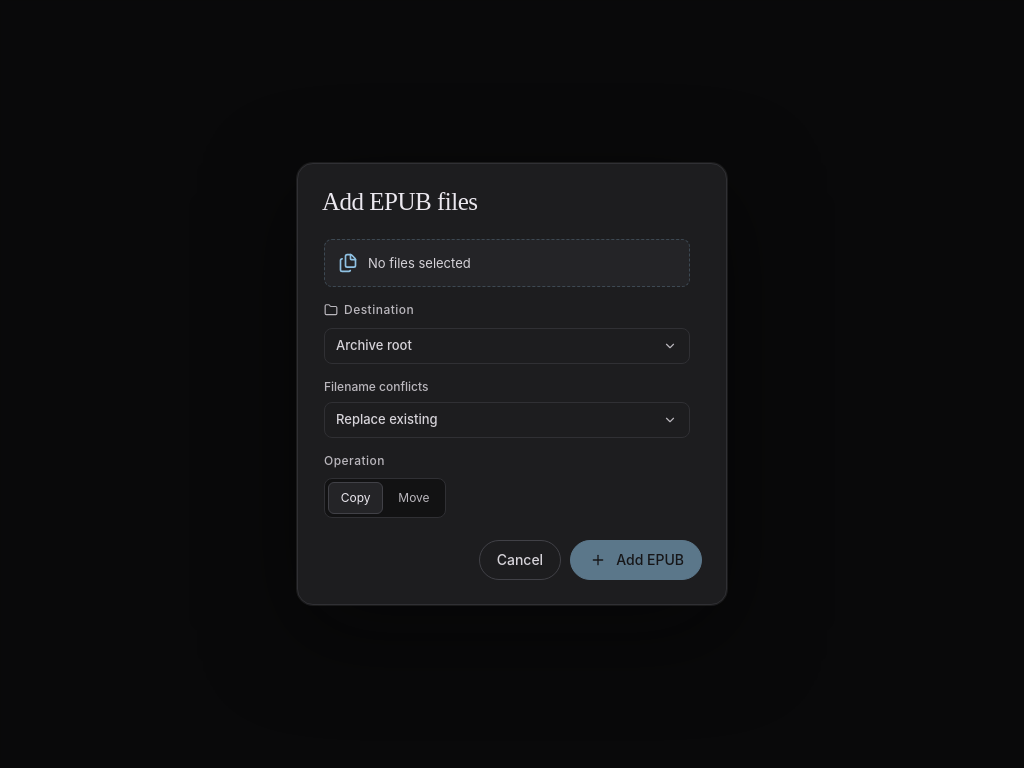
AddEpubDialog replacement confirmation › keeps a rejected submission and its selected file in one dialog-owned alert
Click the button "No files selected": {"x": 419, "y": 263} [324,239,690,287]
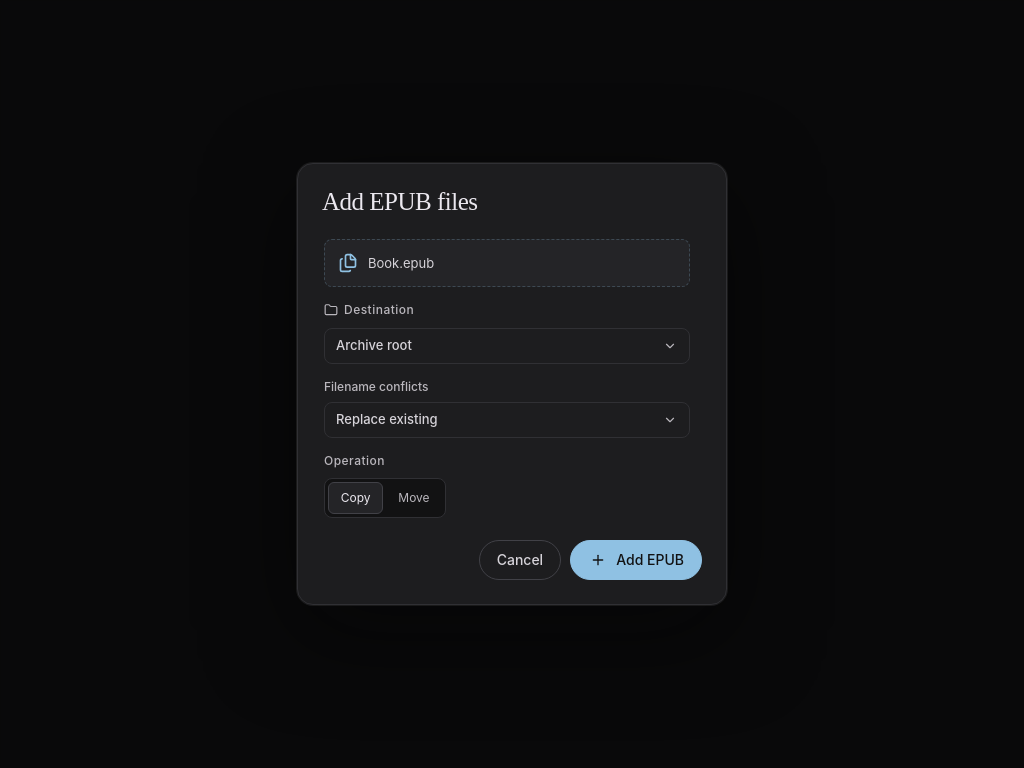
Click the button "Add EPUB": {"x": 636, "y": 560} [570,540,702,580]
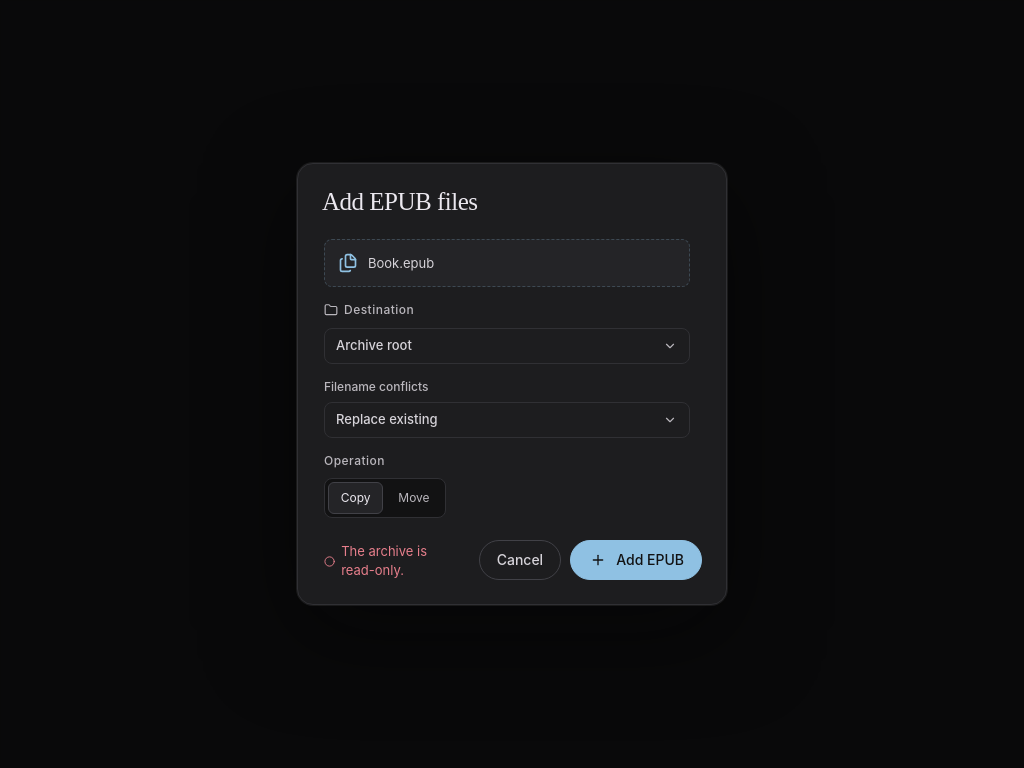
Expected: the text "Book.epub" is shown, [368,255,434,271]
Expected: the number of messages is 1, [324,543,427,578]
Expected: the message "The archive is read-only." is shown, [324,543,427,578]
